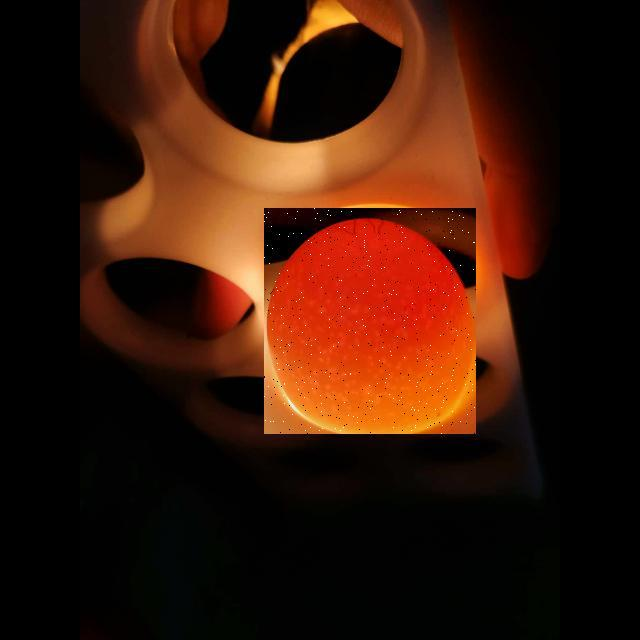Infertile: (264, 208, 476, 434)
